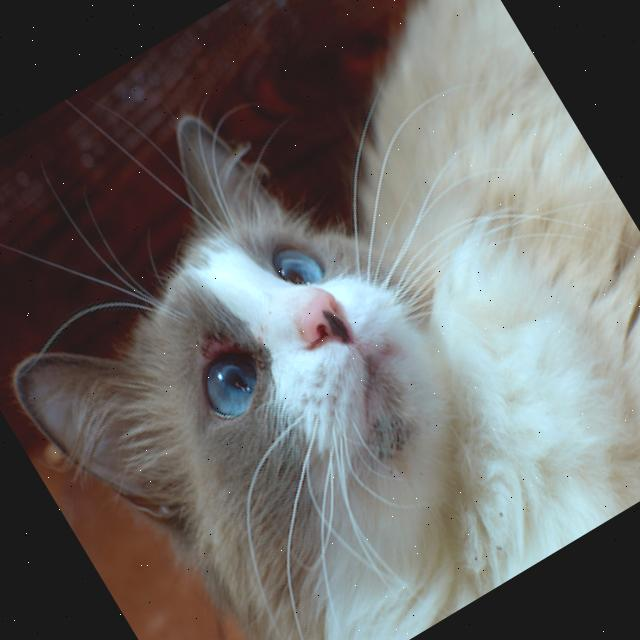cat-acne: (327, 389, 452, 512), (175, 300, 272, 384)
